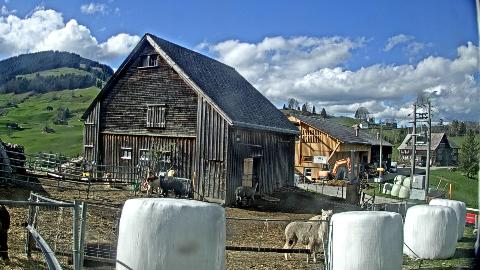car: (389, 166, 397, 172), (418, 162, 426, 166)
sheep: (284, 208, 334, 262), (68, 241, 116, 267), (235, 179, 258, 209), (0, 202, 10, 266), (160, 175, 184, 199), (305, 214, 331, 234), (146, 175, 164, 197), (106, 173, 122, 187)
